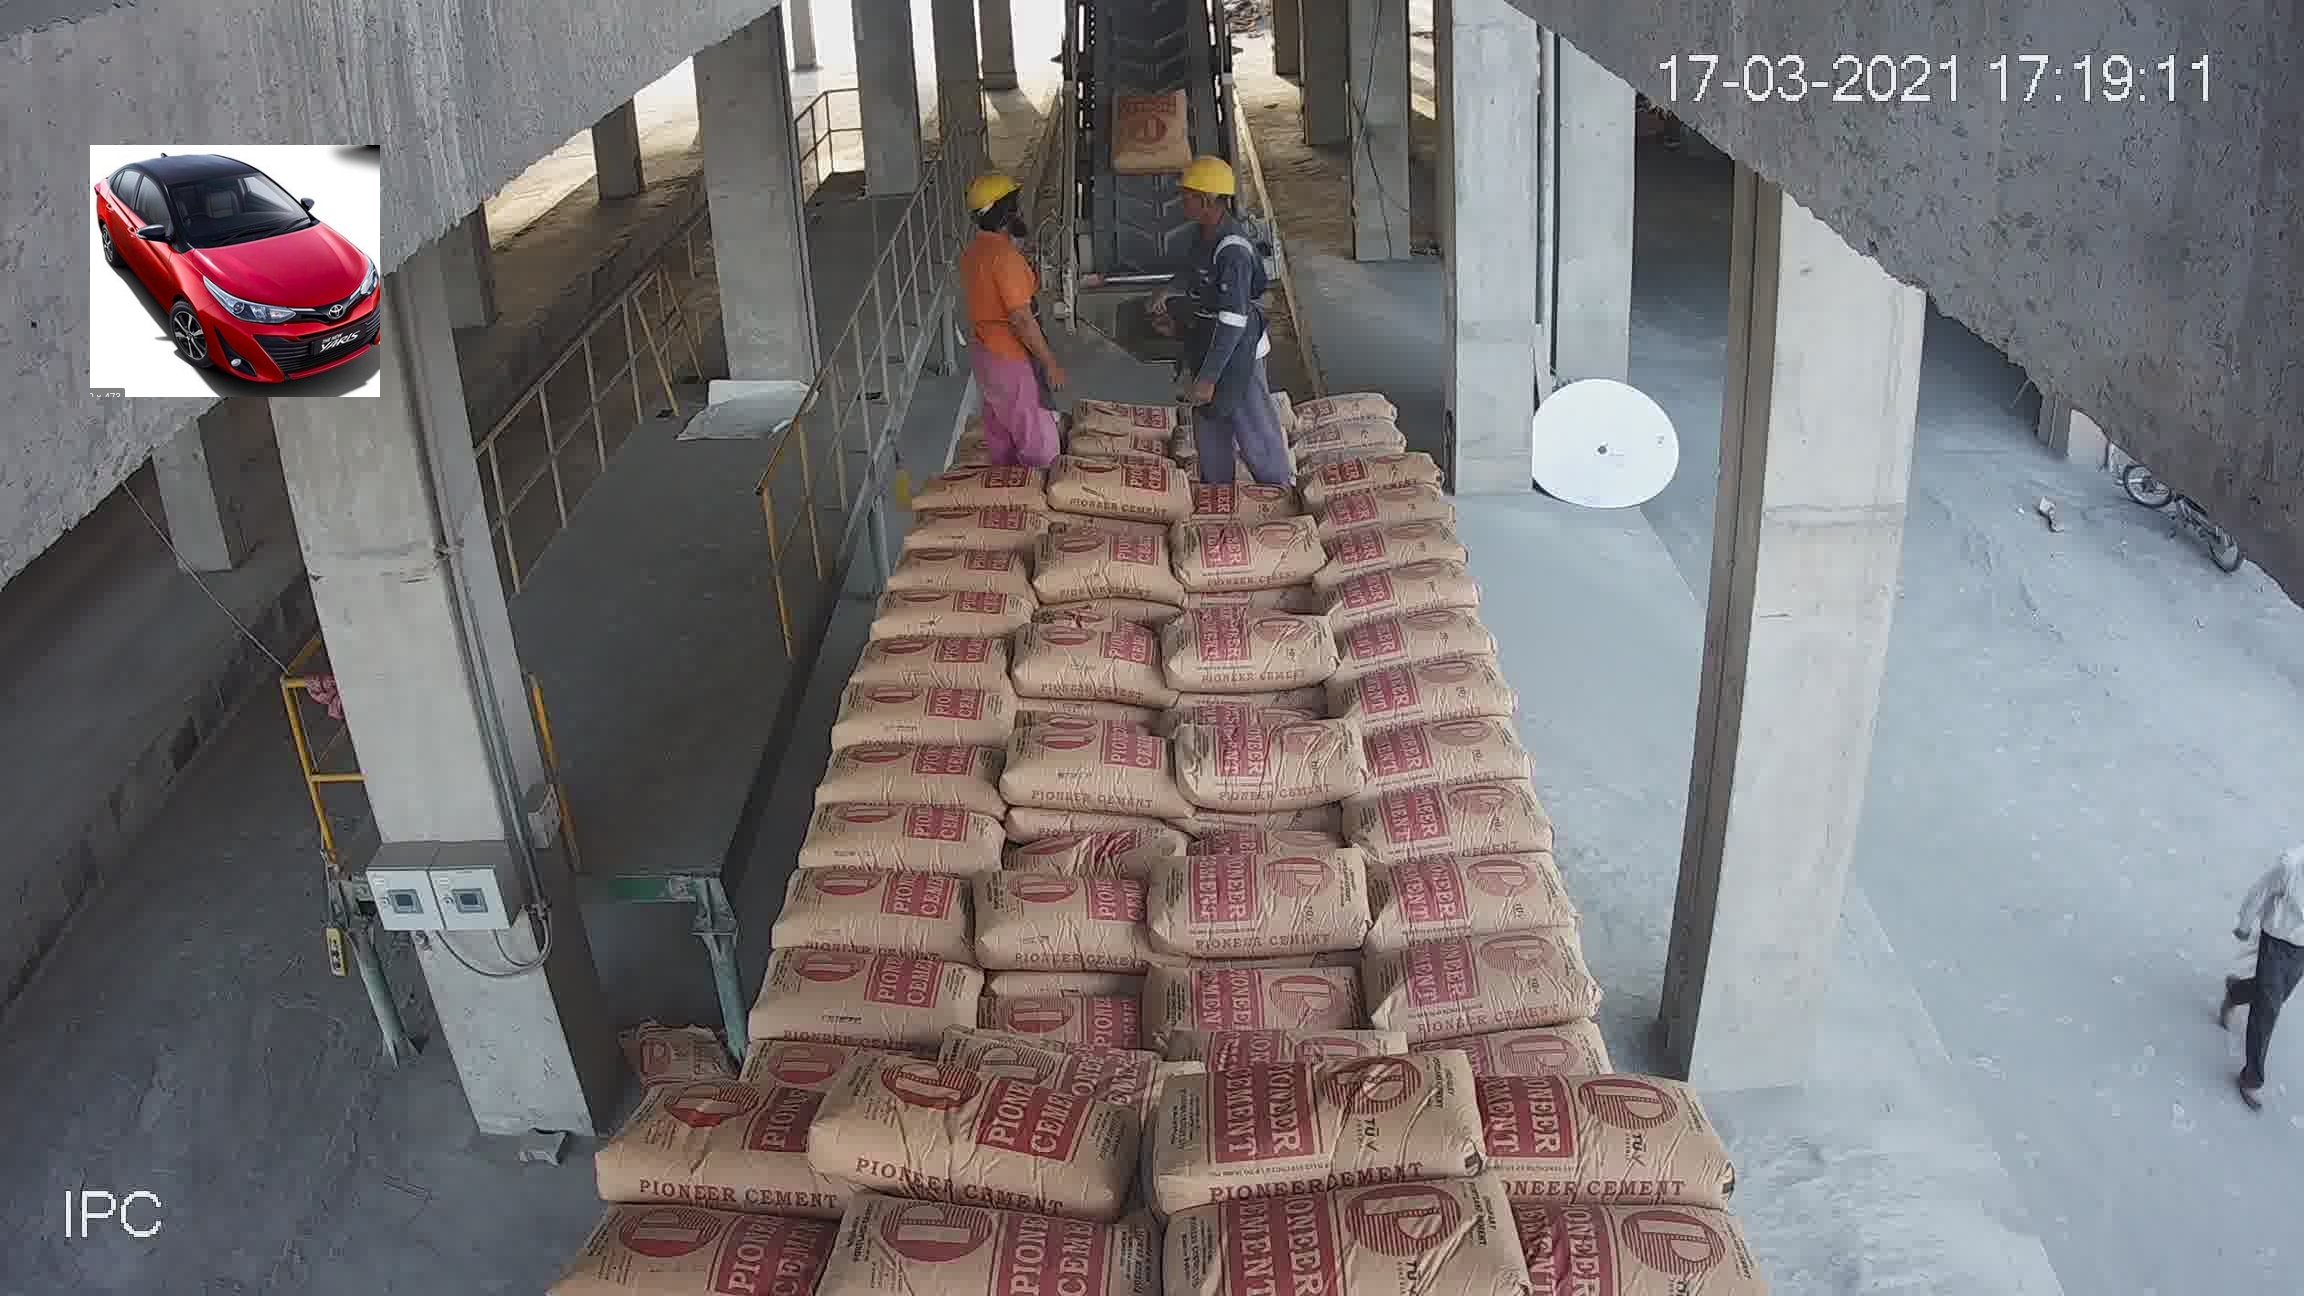bag: (1111, 90, 1184, 169)
bag_h: (1127, 1044, 1473, 1222), (802, 1055, 1154, 1212), (1158, 1161, 1502, 1282), (1481, 1074, 1722, 1206), (834, 1199, 1149, 1296), (1367, 929, 1609, 1041), (592, 1082, 813, 1204), (1136, 843, 1370, 957), (780, 864, 968, 976), (551, 1214, 823, 1291), (1173, 711, 1366, 820), (1513, 1214, 1774, 1293), (737, 956, 978, 1040), (1135, 945, 1351, 1029), (1359, 767, 1541, 866), (1177, 1013, 1429, 1082), (994, 870, 1154, 980), (1161, 612, 1340, 706), (798, 791, 987, 877), (1374, 862, 1575, 942), (1342, 709, 1532, 791), (798, 731, 999, 809), (957, 1036, 1185, 1103), (1006, 729, 1188, 810), (1016, 807, 1184, 889), (1332, 658, 1521, 729), (824, 688, 1010, 752), (1010, 623, 1173, 695), (1324, 555, 1492, 623), (1033, 521, 1177, 600), (1337, 600, 1500, 668), (961, 978, 1135, 1041), (1038, 451, 1207, 514), (1177, 516, 1324, 587), (1449, 1019, 1608, 1081), (1313, 517, 1461, 581), (856, 635, 1017, 692), (1313, 445, 1442, 511), (861, 585, 1019, 638), (908, 456, 1036, 513), (911, 503, 1055, 554), (878, 552, 1029, 597), (1315, 483, 1456, 529), (1291, 405, 1402, 460), (1187, 464, 1291, 519), (1059, 389, 1173, 437), (1067, 430, 1179, 472), (1298, 380, 1396, 419)
belt: (1055, 8, 1253, 310)
